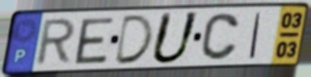C: (199, 11, 241, 62)
D: (112, 13, 156, 67)
E: (73, 15, 116, 66)
I: (247, 11, 264, 60)
R: (33, 17, 79, 68)
U: (148, 11, 202, 67)
